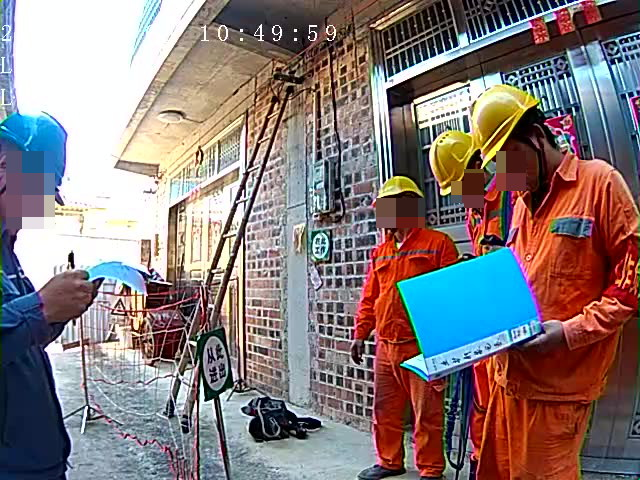badge: (602, 236, 640, 307)
halt: (1, 110, 71, 240), (472, 83, 552, 184), (430, 130, 489, 201), (373, 175, 426, 225)
hand: (38, 268, 94, 326), (517, 318, 565, 354), (349, 338, 367, 366)
inear: (515, 116, 553, 169), (391, 193, 418, 224), (465, 153, 487, 188)
intosign: (195, 326, 235, 402)
person: (465, 84, 640, 480), (346, 174, 459, 479), (1, 68, 74, 480)
upsuit: (1, 242, 72, 480)
worksign: (309, 228, 334, 265)
ydownsuit: (471, 396, 596, 480), (372, 352, 450, 471)
yupsuit: (490, 146, 640, 388), (350, 223, 459, 341)
